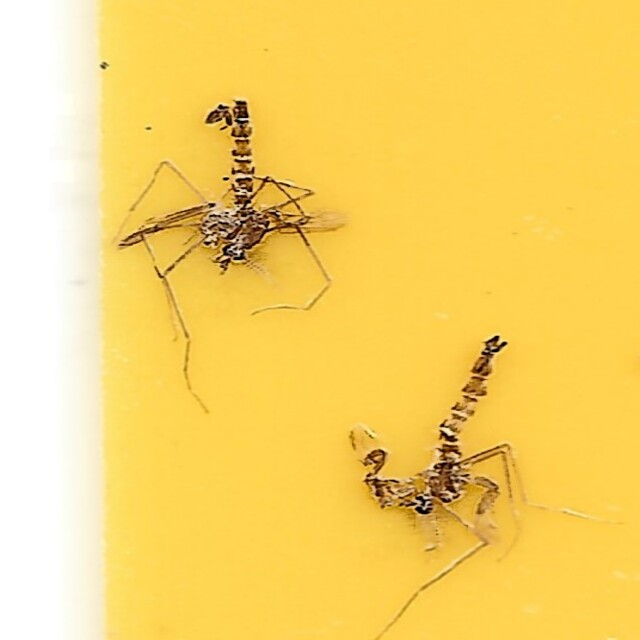Nematocera: (119, 96, 345, 274), (351, 333, 521, 544)
